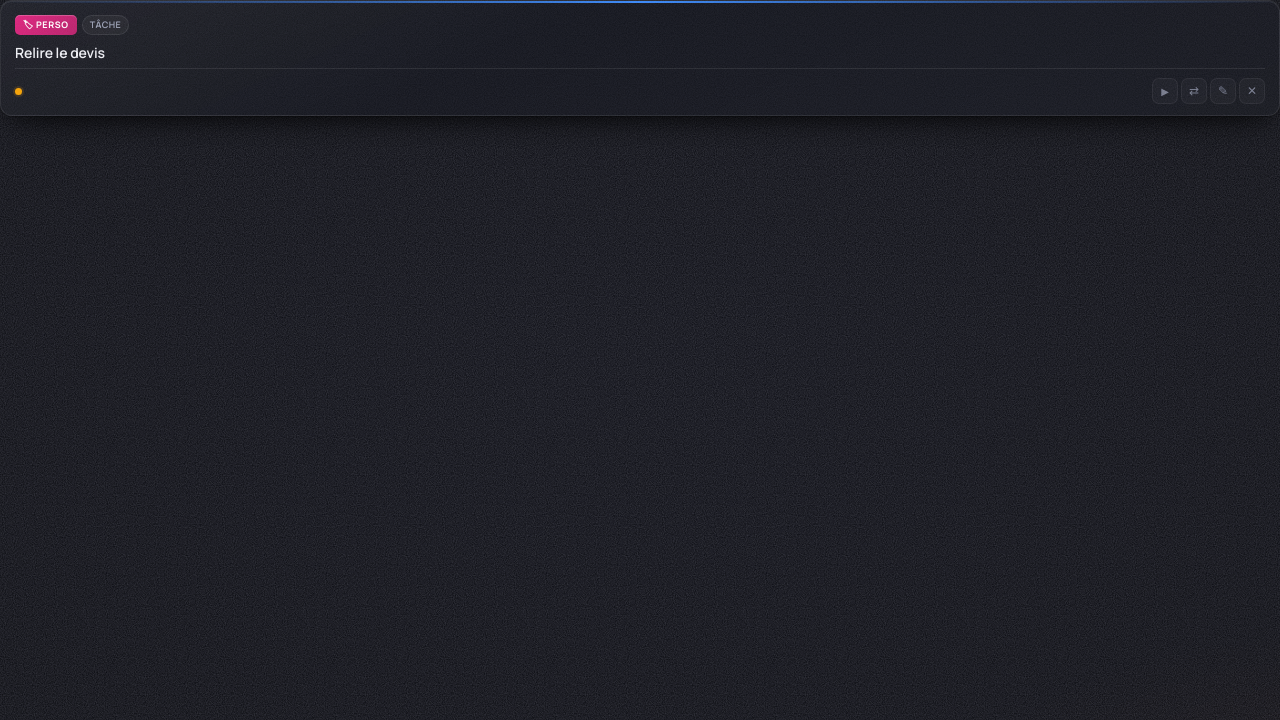
Test: TaskCard — déplacer sans glisser › liste les destinations, sauf la liste courante
The image size is (1280, 720).
Click the button named "Déplacer « Relire le devis »": (1194, 91) [1181, 78, 1207, 104]
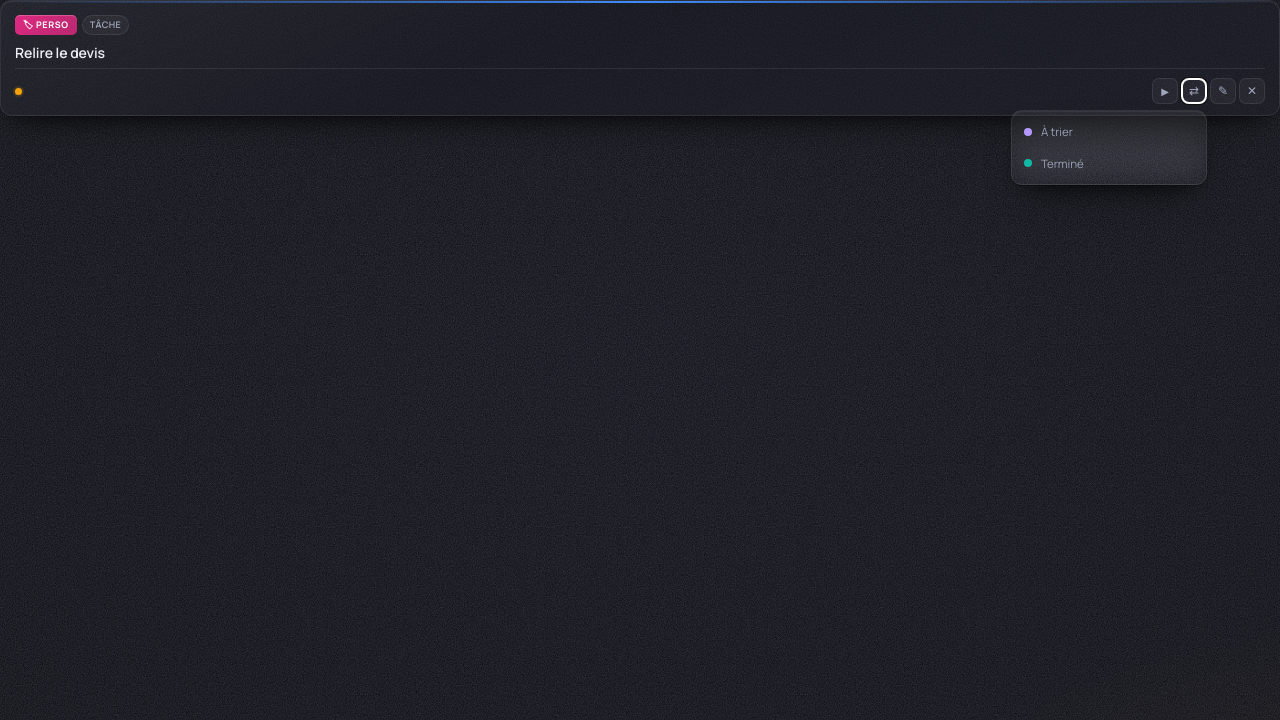
Expected: the menu item "À trier" is shown, [1012, 116, 1206, 148]
Expected: the menu item "Terminé" is shown, [1012, 148, 1206, 179]
